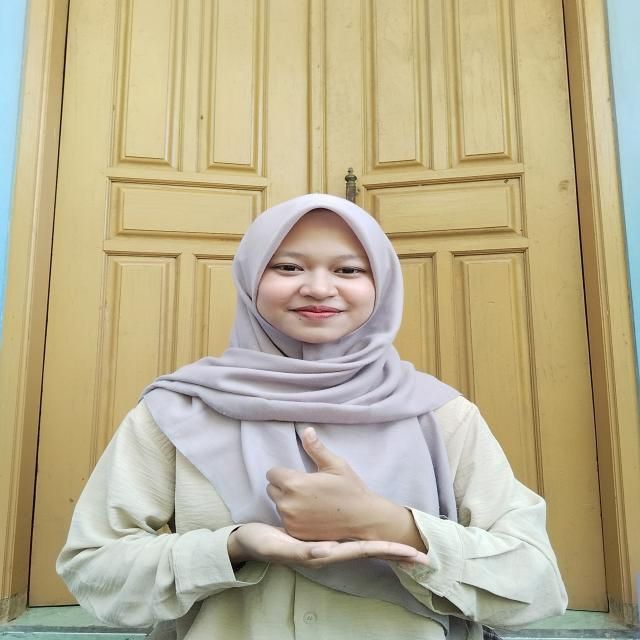cantik: (231, 414, 437, 578)
